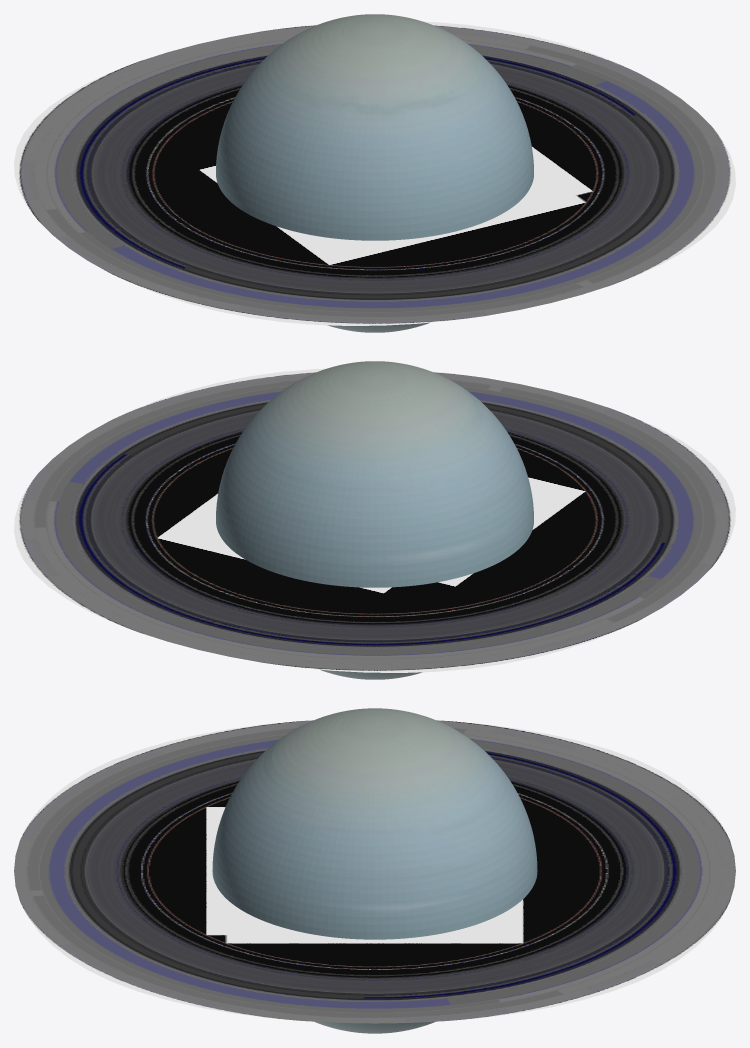
Rendered from uranus.obj.
The picture shows the model from 3 angles, top to bottom: view 1: azimuth 30°, elevation 25°; view 2: azimuth 150°, elevation 25°; view 3: azimuth 270°, elevation 25°; orthographic projection. The views are drawn at different scales.
Parts seen in each view (by area): view 1: Plane_Plane.001, Sphere; view 2: Plane_Plane.001, Sphere; view 3: Plane_Plane.001, Sphere.
Boxes of the visible parts, box(x1,y1,x2,y2) form: Plane_Plane.001: box(14, 21, 735, 325); Sphere: box(216, 14, 533, 332); Plane_Plane.001: box(14, 368, 735, 672); Sphere: box(216, 361, 533, 679); Plane_Plane.001: box(14, 720, 735, 1023); Sphere: box(212, 708, 537, 1033).
Size of the model in its own units: 4.43 by 2 by 4.43.
2 materials, 2 textured.
